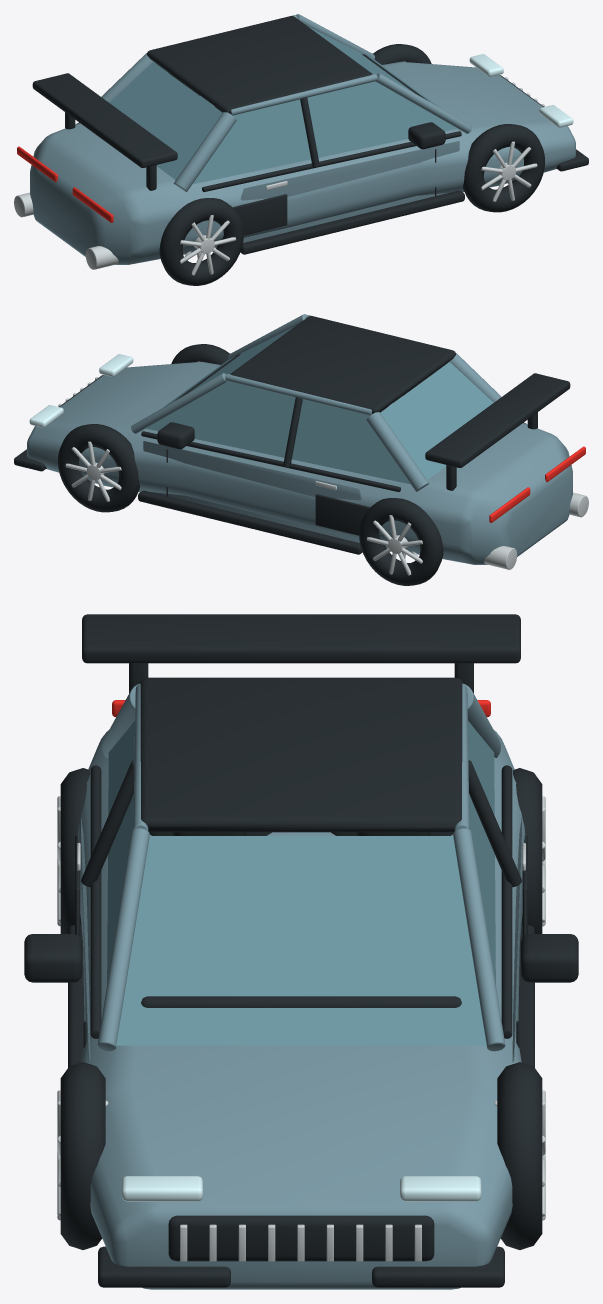
File: SportsCar.fbx
The picture shows the model from 3 angles, top to bottom: view 1: azimuth 30°, elevation 25°; view 2: azimuth 150°, elevation 25°; view 3: azimuth 270°, elevation 25°; orthographic projection. The views are drawn at different scales.
Visible parts, largest first — view 1: BodyPaint, TrimRubber, Glazing, TrimRubber.002, TrimRubber.001, BrushedAlloy.002, BrushedAlloy, BrushedAlloy.001, Headlamp, TrimRubber.003, Taillamp; view 2: BodyPaint, TrimRubber, Glazing, TrimRubber.004, TrimRubber.003, BrushedAlloy.004, BrushedAlloy, BrushedAlloy.003, Headlamp, TrimRubber.001, Taillamp; view 3: TrimRubber, BodyPaint, Glazing, TrimRubber.001, TrimRubber.003, Headlamp, TrimRubber.002, TrimRubber.004, BrushedAlloy.
Part boxes in pixels (box(x1,y1,x2,y2)): BodyPaint: box(30, 14, 575, 264); TrimRubber: box(32, 16, 588, 254); Glazing: box(109, 26, 457, 184); TrimRubber.002: box(159, 198, 243, 285); TrimRubber.001: box(463, 124, 544, 212); BrushedAlloy.002: box(180, 215, 236, 275); BrushedAlloy: box(14, 77, 544, 269); BrushedAlloy.001: box(481, 141, 537, 201); Headlamp: box(469, 54, 573, 127); TrimRubber.003: box(373, 44, 431, 64); Taillamp: box(17, 146, 113, 222); BodyPaint: box(27, 314, 572, 564); TrimRubber: box(14, 316, 570, 554); Glazing: box(145, 326, 493, 484); TrimRubber.004: box(359, 498, 443, 585); TrimRubber.003: box(58, 424, 139, 512); BrushedAlloy.004: box(366, 515, 422, 575); BrushedAlloy: box(58, 377, 588, 569); BrushedAlloy.003: box(65, 441, 121, 501); Headlamp: box(29, 354, 133, 427); TrimRubber.001: box(171, 344, 229, 364); Taillamp: box(489, 446, 585, 522); TrimRubber: box(24, 614, 578, 1287); BodyPaint: box(77, 683, 525, 1289); Glazing: box(107, 721, 495, 1045); TrimRubber.001: box(60, 1062, 105, 1249); TrimRubber.003: box(497, 1062, 542, 1249); Headlamp: box(121, 1176, 481, 1201); TrimRubber.002: box(60, 768, 90, 933); TrimRubber.004: box(513, 768, 542, 933); BrushedAlloy: box(77, 842, 525, 1261).
Size of the model in its own units: 522 by 160 by 259.
